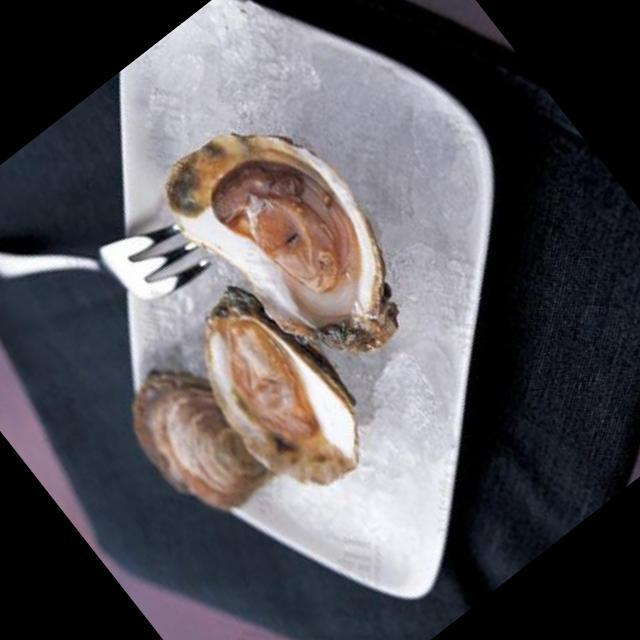Oyster- Indeterminate: (104, 341, 289, 536)
Oyster-Open: (142, 85, 440, 402), (156, 270, 392, 525)
